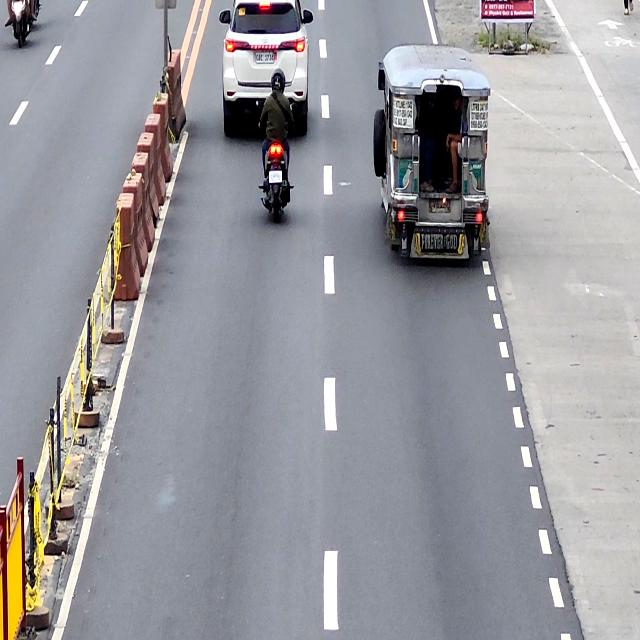Car: (218, 0, 314, 132)
Jeep: (372, 42, 492, 270)
License-Plate: (428, 198, 452, 215), (254, 52, 275, 64), (268, 172, 283, 185)
Motorcycle: (255, 97, 297, 220)
